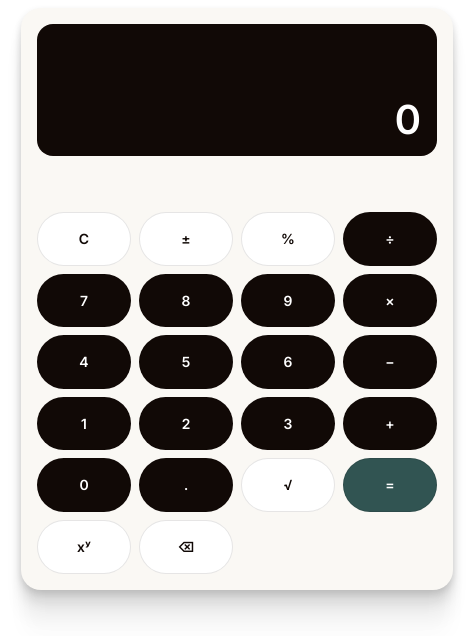
Test case: Calculator component › updates display on digit click
Expected: the message named "Calculator display" reads "0", [395,95,421,144]
What coordinates should you click on to do the following:
click the button "5"
I would click on:
 (186, 362)
Its box is [139,335,233,389].
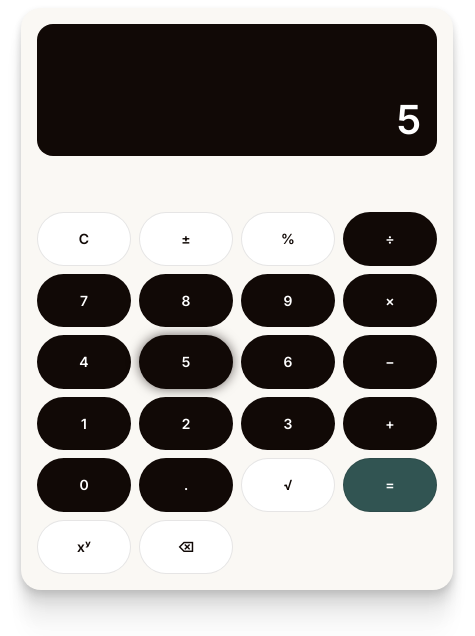
Expected: the message named "Calculator display" reads "5", [397,95,421,144]
What coordinates should you click on to do the following:
click the button "2"
I would click on:
 (186, 424)
Its box is [139,397,233,450].
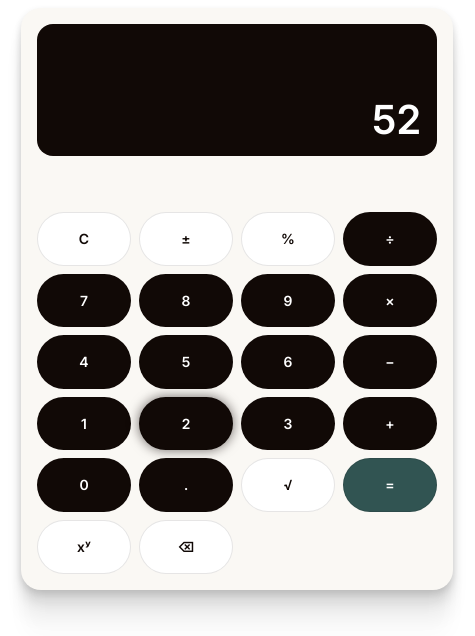
Expected: the message named "Calculator display" reads "52", [372,95,421,144]
